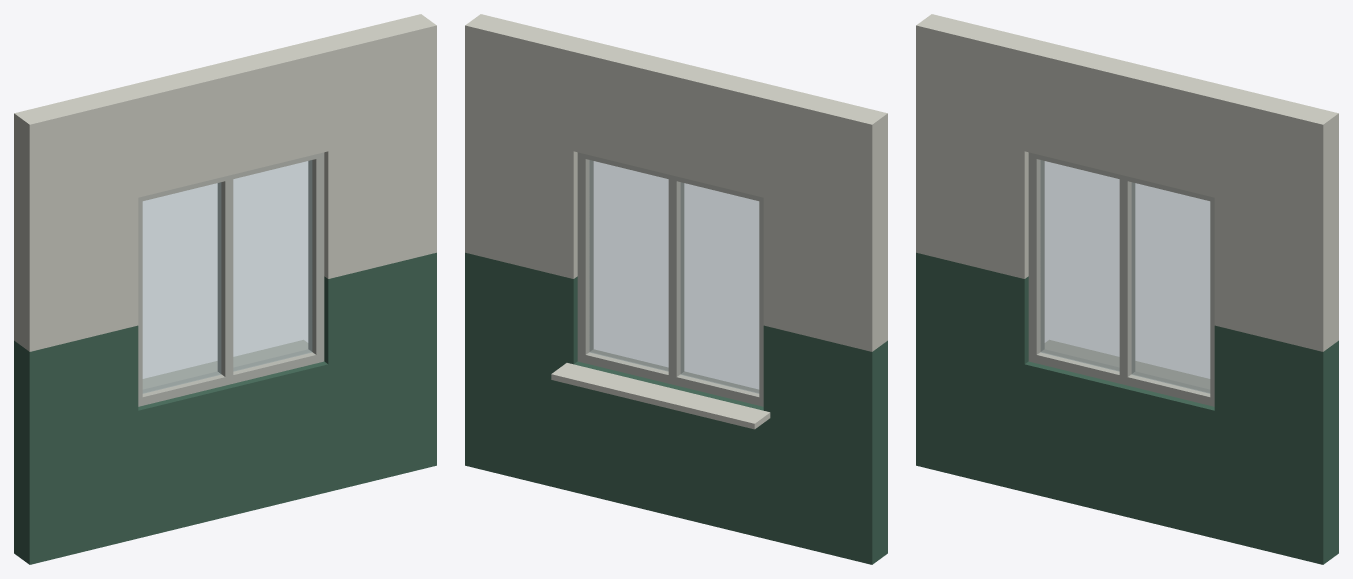
Rendered from hosp_wall_window.glb.
3 views of the same model, side by side, from view 1: azimuth 30°, elevation 25°; view 2: azimuth 150°, elevation 25°; view 3: azimuth 330°, elevation 25° (orthographic).
Visible parts, largest first — view 1: hosp_wall_window-col; view 2: hosp_wall_window-col; view 3: hosp_wall_window-col.
Boxes of the visible parts, x1,y1,x2,y2 form: hosp_wall_window-col: (14,14,436,564); hosp_wall_window-col: (465,14,887,564); hosp_wall_window-col: (916,14,1338,564).
Size of the model in its own units: 3 by 3.1 by 0.4.
